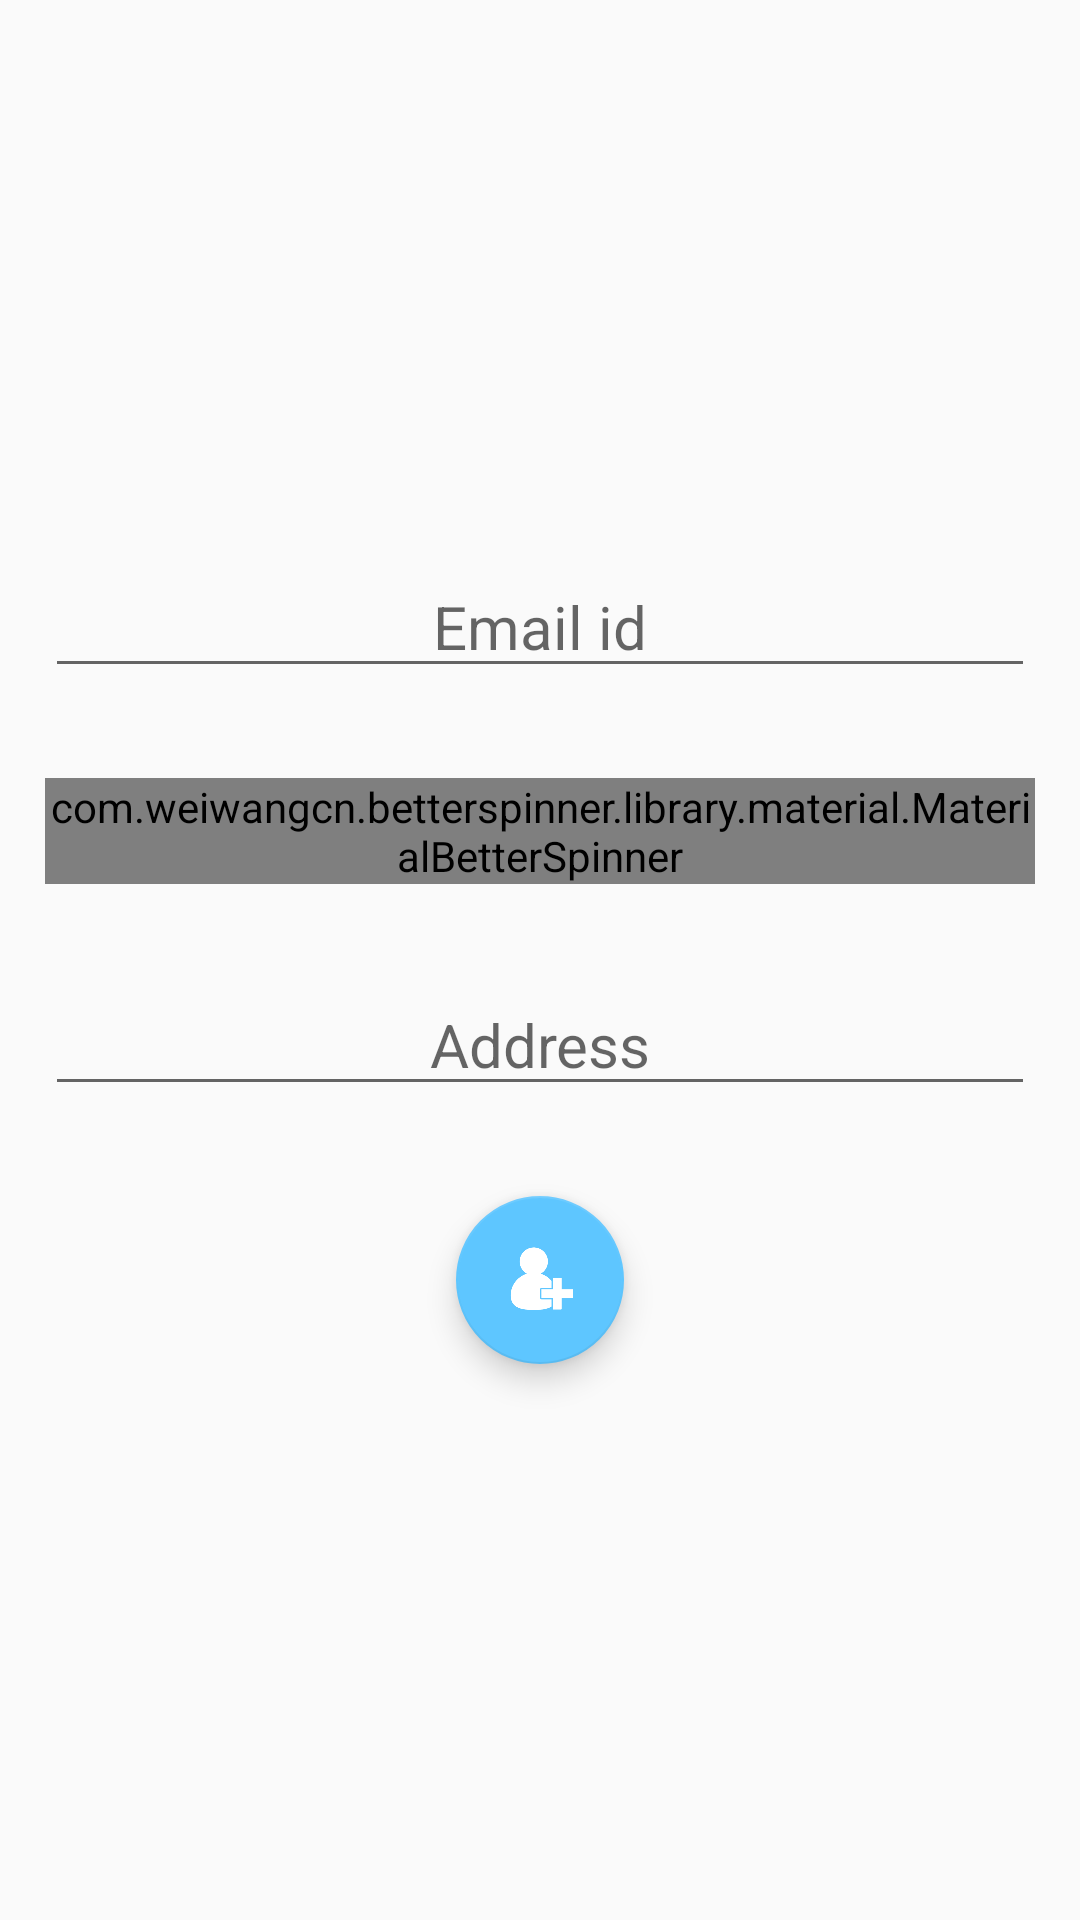

Icon bounding boxes for this 1080px×1920px phone screenshot, format (x1=x1, y1=y1, x2=x2, y2=y2):
signup: (x1=456, y1=1196, x2=624, y2=1364)
